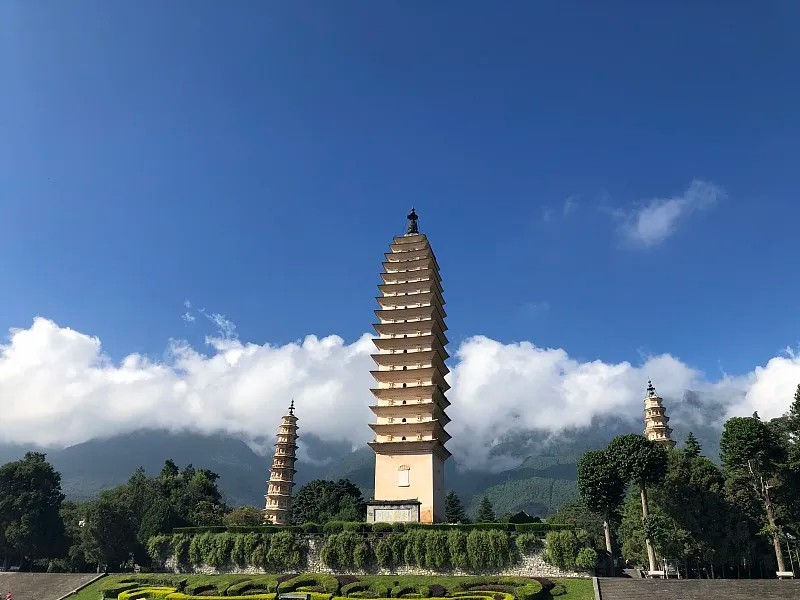ThreePagoda: (367, 205, 453, 525)
